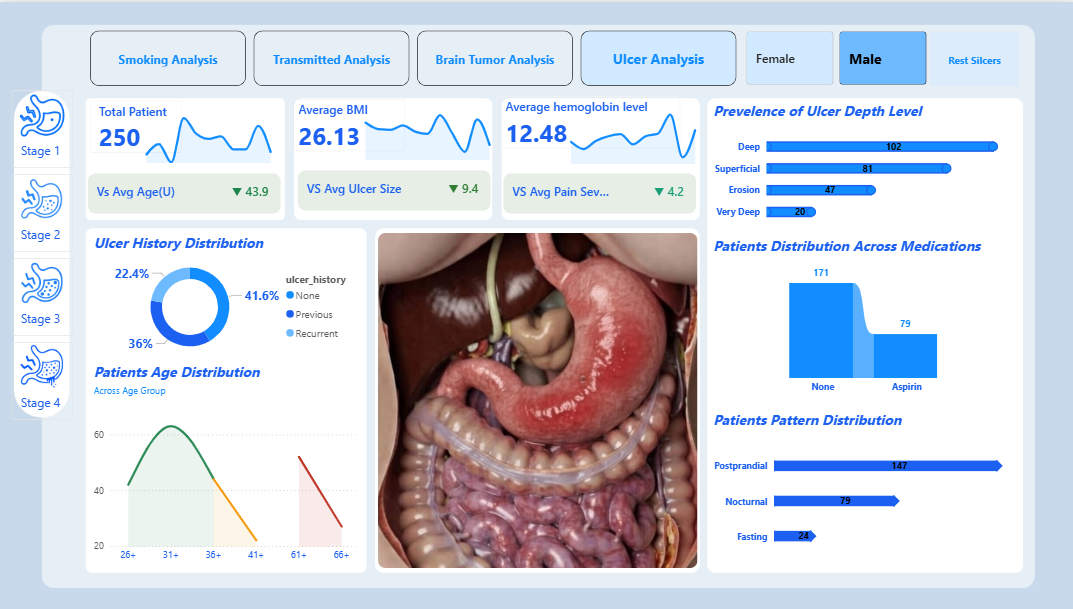

The dashboard page shown, as its layout file describes it:
{"tool":"powerbi","page":{"name":"Ulcer Analysis","canvas":[1440,810],"ordinal":3},"visuals":[{"type":"advancedSlicerVisual","fields":{"Values":["Ulcer Image Dataset.Ulcer_stage"]},"box":[13.6,112.1,92.4,451.5],"z":0},{"type":"image","box":[507.6,307.6,425.8,447],"z":1000},{"type":"cardVisual","fields":{"Data":["Count(Ulcer Dataset.patient_id)"]},"box":[92.4,122.7,315.2,189.4],"z":2000},{"type":"cardVisual","fields":{"Data":["Count(Ulcer Dataset.patient_id)"]},"box":[106.1,113.6,157.6,104.5],"z":3000},{"type":"lineChart","fields":{"Category":["Ulcer Dataset.Date of Diagnosis.Variation.Date Hierarchy.Year"],"Y":["Count(Ulcer Dataset.patient_id)"]},"box":[184.8,130.3,195.5,89.4],"z":4000},{"type":"cardVisual","fields":{"Data":["Count(Ulcer Dataset.patient_id)"]},"box":[371.2,118.2,315.2,189.4],"z":5000},{"type":"cardVisual","fields":{"Data":["Avg(Ulcer Dataset.bmi)"]},"box":[371.2,112.1,189.4,104.5],"z":6000},{"type":"lineChart","fields":{"Category":["Ulcer Dataset.Date of Diagnosis.Variation.Date Hierarchy.Year"],"Y":["Avg(Ulcer Dataset.bmi)"]},"box":[475.8,125.8,195.5,89.4],"z":7000},{"type":"cardVisual","fields":{"Data":["Count(Ulcer Dataset.patient_id)"]},"box":[647,121.2,315.2,189.4],"z":8000},{"type":"cardVisual","fields":{"Data":["Avg(Ulcer Dataset.hemoglobin_g_dl)"]},"box":[647.2,109,280.9,104.5],"z":9000},{"type":"lineChart","fields":{"Category":["Ulcer Dataset.Date of Diagnosis.Variation.Date Hierarchy.Year"],"Y":["Avg(Ulcer Dataset.hemoglobin_g_dl)"]},"box":[749.4,131.5,195.5,88.8],"z":10000},{"type":"donutChart","title":"Ulcer History Distribution","fields":{"Category":["Ulcer Dataset.ulcer_history"],"Y":["Count(Ulcer Dataset.patient_id)"]},"box":[124.7,307.9,362.9,171.9],"z":11000},{"type":"lineChart","title":"Patients Age Distribution","fields":{"Category":["Ulcer Dataset.Age Group"],"Y":["DAX Measures.Low Segment","DAX Measures.Medium Segment","DAX Measures.High Segment"]},"box":[124.7,479.8,362.9,275.3],"z":12000},{"type":"barChart","title":"Prevelence of  Ulcer Depth Level","fields":{"Category":["Ulcer Dataset.ulcer_depth"],"Y":["DAX Measures.Patients Count"]},"box":[949.4,131.5,414.6,176.4],"z":13000},{"type":"columnChart","title":"Patients Distribution Across  Medications","fields":{"Category":["Ulcer Dataset.med_type"],"Y":["DAX Measures.Patients Count"]},"box":[950,312.1,413.8,219],"z":14000},{"type":"barChart","title":"Patients Pattern Distribution","fields":{"Category":["Ulcer Dataset.pain_pattern"],"Y":["DAX Measures.Patients Count"]},"box":[949.4,543.8,414.6,211.2],"z":15000},{"type":"pageNavigator","box":[124.1,37.9,862.1,74.1],"z":16000},{"type":"advancedSlicerVisual","fields":{"Values":["Ulcer Dataset.sex"]},"box":[993.1,34.5,251.7,81],"z":17000},{"type":"actionButton","box":[1244.8,39.7,119,72.4],"z":18000}]}

Visuals, with their boxes in screenshot pixels (x1, y1, x2, y2), scaled from the page's 1440x810 canvas onto the 1073x609 screenshot:
advancedSlicerVisual - Ulcer Image Dataset.Ulcer_stage: 10/84/79/424
image: 378/231/696/567
cardVisual - Count(Ulcer Dataset.patient_id): 69/92/304/235
cardVisual - Count(Ulcer Dataset.patient_id): 79/85/196/164
lineChart - Ulcer Dataset.Date of Diagnosis.Variation.Date Hierarchy.Year x Count(Ulcer Dataset.patient_id): 138/98/283/165
cardVisual - Count(Ulcer Dataset.patient_id): 277/89/511/231
cardVisual - Avg(Ulcer Dataset.bmi): 277/84/418/163
lineChart - Ulcer Dataset.Date of Diagnosis.Variation.Date Hierarchy.Year x Avg(Ulcer Dataset.bmi): 355/95/500/162
cardVisual - Count(Ulcer Dataset.patient_id): 482/91/717/234
cardVisual - Avg(Ulcer Dataset.hemoglobin_g_dl): 482/82/692/161
lineChart - Ulcer Dataset.Date of Diagnosis.Variation.Date Hierarchy.Year x Avg(Ulcer Dataset.hemoglobin_g_dl): 558/99/704/166
"Ulcer History Distribution" donutChart: 93/231/363/361
"Patients Age Distribution" lineChart: 93/361/363/568
"Prevelence of  Ulcer Depth Level" barChart: 707/99/1016/231
"Patients Distribution Across  Medications" columnChart: 708/235/1016/399
"Patients Pattern Distribution" barChart: 707/409/1016/568
pageNavigator: 92/28/735/84
advancedSlicerVisual - Ulcer Dataset.sex: 740/26/928/87
actionButton: 928/30/1016/84
